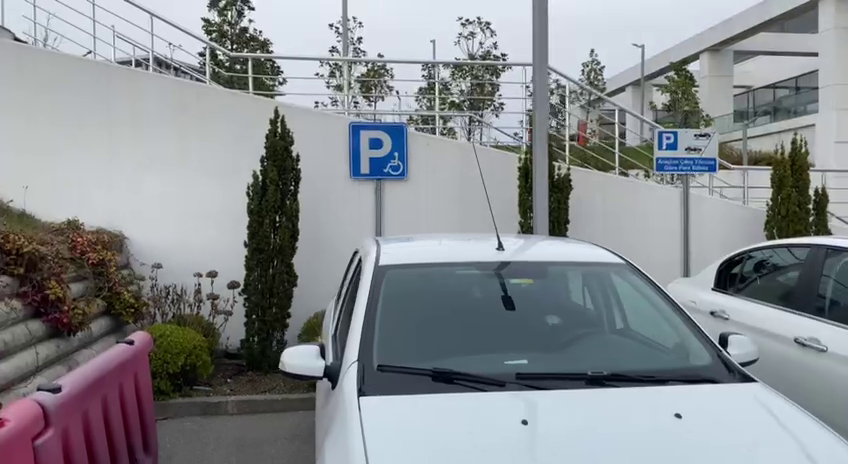parking: (349, 121, 409, 181), (655, 129, 680, 152)
